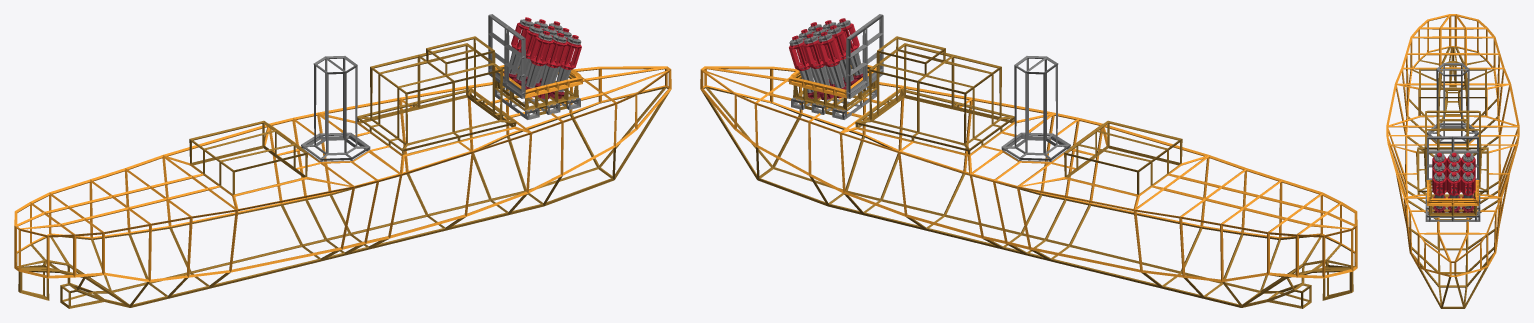
File: Ship_HMCS_Sackville_Wireframe_Hedgehog.obj
3 views of the same model, side by side, from view 1: azimuth 30°, elevation 25°; view 2: azimuth 150°, elevation 25°; view 3: azimuth 270°, elevation 25° (orthographic). The views are drawn at different scales.
Visible parts, largest first — view 1: HMCS-Sackville; view 2: HMCS-Sackville; view 3: HMCS-Sackville.
Boxes of the visible parts, x1,y1,x2,y2 form: HMCS-Sackville: (14,14,671,308); HMCS-Sackville: (700,14,1357,308); HMCS-Sackville: (1386,14,1519,308).
Bounding box in the file's own units: 4.75 × 1.28 × 1.08.
2 materials, 2 textured.
